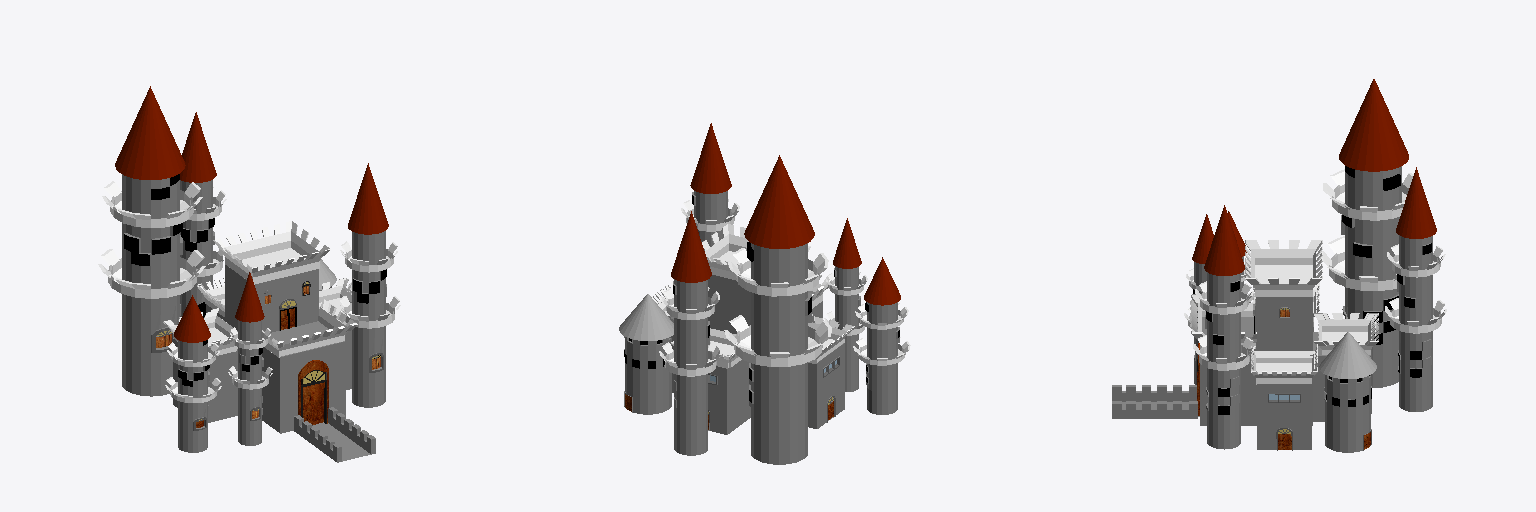
3 views of the same model, side by side, from view 1: azimuth 30°, elevation 25°; view 2: azimuth 150°, elevation 25°; view 3: azimuth 270°, elevation 25° (orthographic).
Parts seen in each view (by area): view 1: Cone05, Cone01, Box07, Cone03, Cone06, Cone02, Box01, Box02, Box15, Box05, Box11, Box22 (+3 smaller); view 2: Cone05, Cone06, Cone03, Cone01, Cone02, Cylinder01, Box17, Box15, Box01, Cone04, Box02, Box16; view 3: Cone05, Cone06, Cone01, Box08, Cylinder01, Box01, Box02, Box10, Box07, Cone04, Box16, Box22 (+5 smaller).
Boxes of the visible parts, box(x1,y1,x2,y2) form: Cone05: box(98, 86, 205, 396); Cone01: box(338, 163, 400, 407); Box07: box(262, 321, 345, 433); Cone03: box(165, 295, 221, 452); Cone06: box(180, 112, 226, 317); Cone02: box(228, 272, 272, 445); Box01: box(225, 265, 318, 332); Box02: box(215, 221, 329, 284); Box15: box(173, 338, 237, 422); Box05: box(262, 299, 357, 357); Box11: box(294, 415, 341, 462); Box22: box(328, 407, 375, 454); Cone05: box(724, 155, 831, 464); Cone06: box(659, 211, 721, 455); Cone03: box(853, 257, 910, 414); Cone01: box(681, 123, 739, 246); Cone02: box(824, 218, 867, 391); Cylinder01: box(624, 336, 671, 414); Box17: box(708, 360, 750, 434); Box15: box(808, 343, 844, 428); Box01: box(708, 275, 750, 333); Cone04: box(619, 294, 673, 340); Box02: box(702, 224, 748, 279); Box16: box(671, 328, 735, 367); Cone05: box(1320, 79, 1423, 387); Cone06: box(1385, 167, 1446, 411); Cone01: box(1193, 205, 1255, 449); Box08: box(1257, 384, 1311, 450); Cylinder01: box(1324, 374, 1371, 452); Box01: box(1253, 297, 1312, 425); Box02: box(1246, 240, 1321, 296); Box10: box(1251, 344, 1317, 383); Box07: box(1197, 317, 1255, 425); Cone04: box(1319, 332, 1376, 378); Box16: box(1313, 313, 1378, 354); Box22: box(1112, 401, 1197, 418).
Size of the model in its own units: 753 by 955 by 970.
Materials: 29 (2 with a texture image).